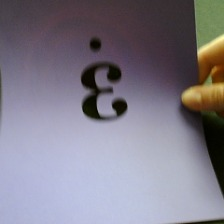violet3: (68, 34, 133, 121)
